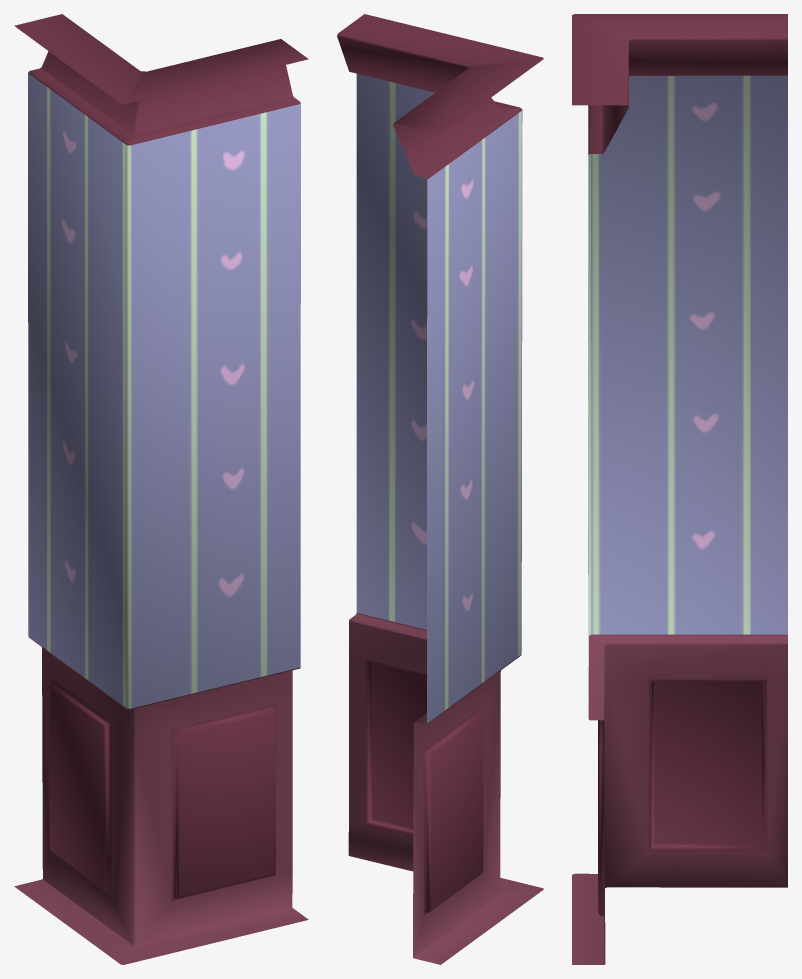
The model's file is WallCorner.fbx.
3 views of the same model, side by side, from view 1: azimuth 30°, elevation 25°; view 2: azimuth 150°, elevation 25°; view 3: azimuth 270°, elevation 25° (orthographic). The views are drawn at different scales.
Parts seen in each view (by area): view 1: wallCorner; view 2: wallCorner; view 3: wallCorner.
Part boxes in pixels (<box>): wallCorner: <box>14,14,308,964</box>; wallCorner: <box>337,14,543,964</box>; wallCorner: <box>572,14,787,964</box>.
Size of the model in its own units: 200 by 879 by 200.
